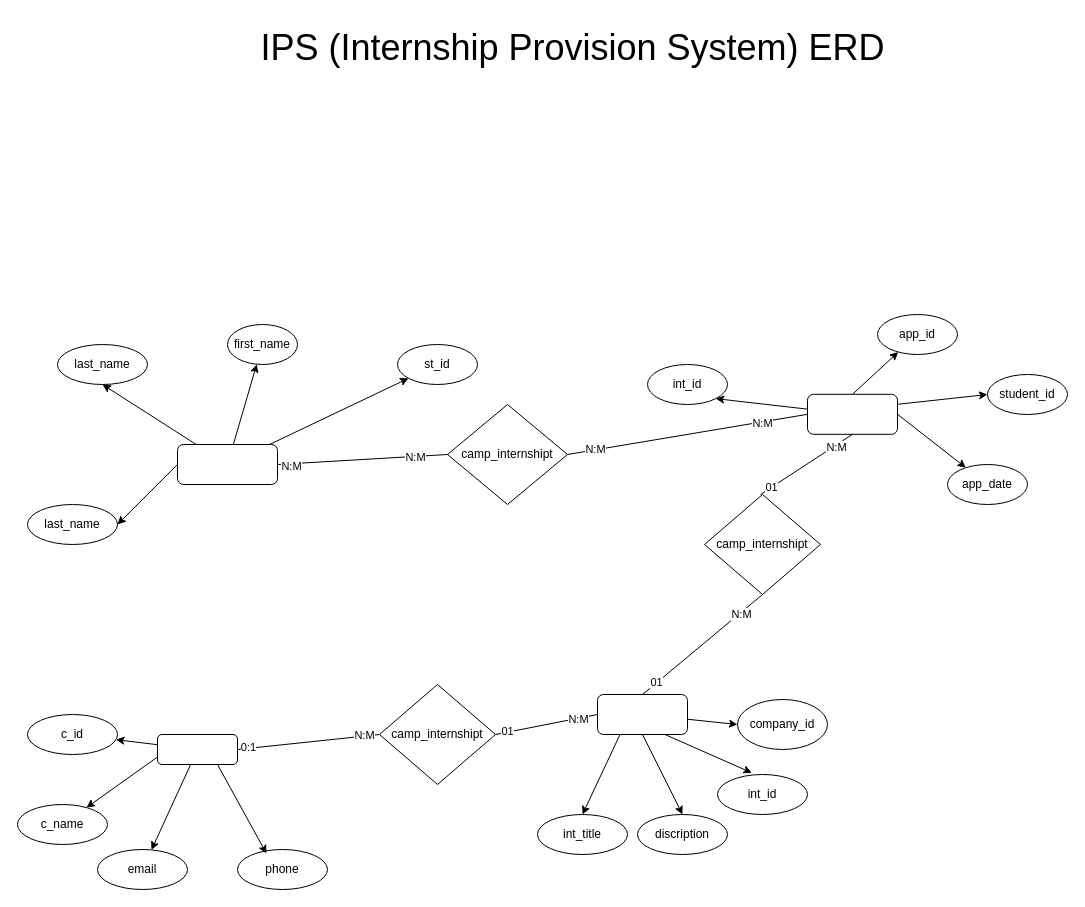
The diagram is 1085 pixels wide and 907 high, and some of its shapes have lost their labels. Here are the shapes that lost their labels. From the top down, the centre of each, then its label:
the point at 852,413: Applications
the point at 227,464: Students
the point at 642,714: Internships
the point at 197,749: companies
